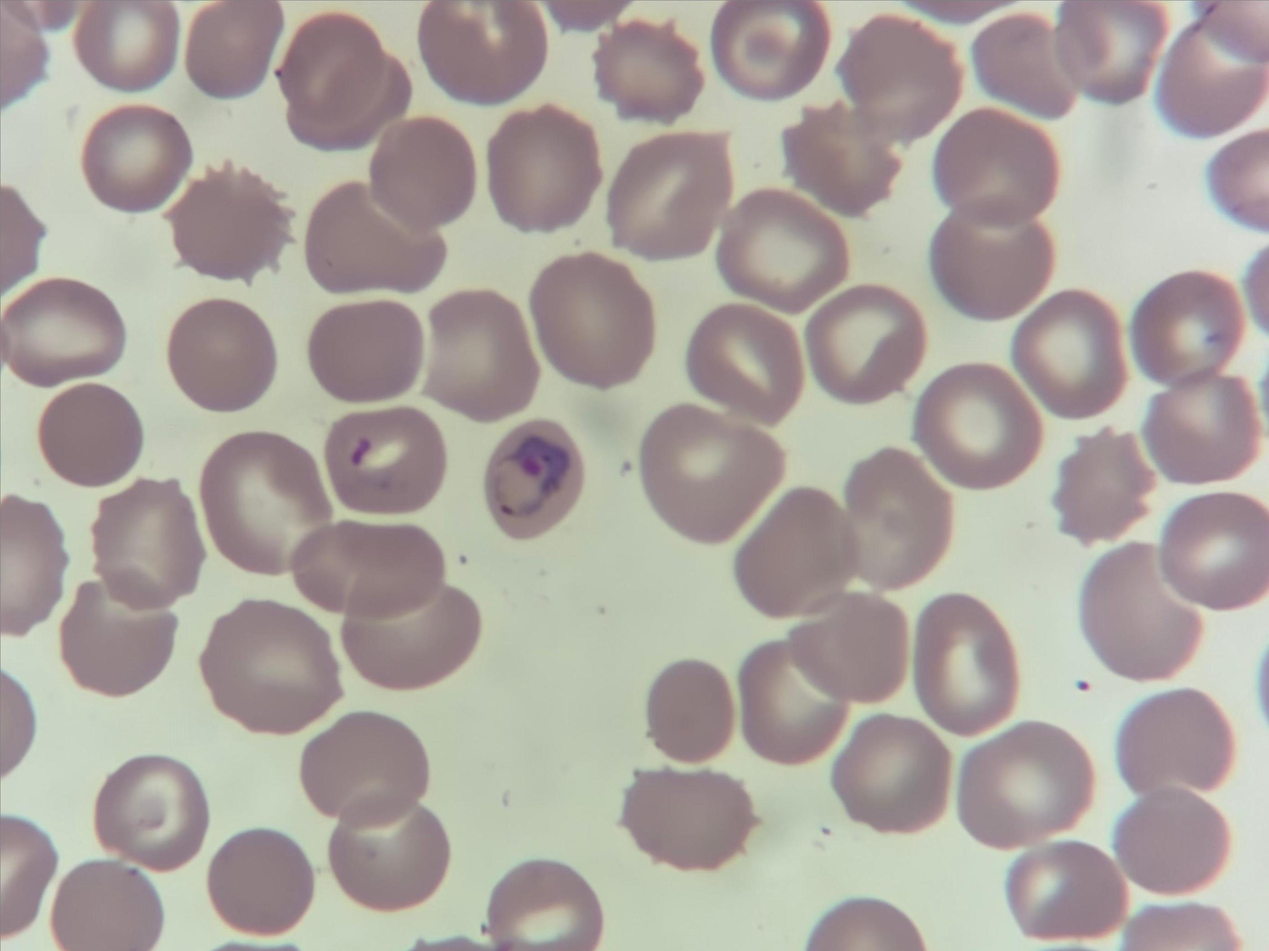Infected: (482, 414, 589, 545)
Uninfected: (202, 596, 347, 734), (646, 407, 784, 543), (201, 430, 333, 572), (949, 719, 1092, 843), (607, 131, 739, 260), (730, 489, 861, 618), (342, 573, 482, 691), (1082, 542, 1199, 683), (292, 516, 440, 624), (539, 249, 656, 382), (62, 560, 178, 694), (931, 101, 1054, 227), (913, 587, 1015, 738), (844, 446, 951, 588), (835, 14, 959, 136), (933, 192, 1054, 317), (717, 190, 844, 308), (918, 364, 1042, 484), (91, 478, 202, 612), (1011, 291, 1127, 419), (425, 288, 534, 420), (808, 279, 924, 403), (308, 183, 444, 288), (418, 1, 551, 107), (781, 99, 902, 215), (737, 642, 852, 763), (301, 715, 428, 824), (1141, 368, 1261, 483), (785, 589, 904, 702), (173, 163, 294, 274), (5, 277, 129, 385), (1118, 683, 1237, 795), (94, 751, 204, 871), (333, 792, 447, 907), (1109, 783, 1229, 892), (688, 307, 796, 428), (82, 103, 198, 215), (828, 717, 948, 825), (491, 108, 596, 231), (1159, 20, 1269, 137), (326, 405, 447, 511), (1004, 838, 1126, 942), (1162, 494, 1269, 612), (1054, 425, 1159, 545), (712, 0, 835, 101), (167, 300, 275, 414), (968, 17, 1082, 123), (623, 770, 750, 865), (484, 854, 606, 951), (1130, 272, 1237, 382), (372, 113, 472, 230), (1052, 0, 1162, 105), (306, 300, 421, 400), (285, 12, 388, 120), (208, 829, 307, 935), (598, 19, 700, 120), (41, 389, 143, 489), (185, 1, 285, 101), (50, 861, 161, 951), (80, 0, 180, 96), (650, 656, 736, 766)
